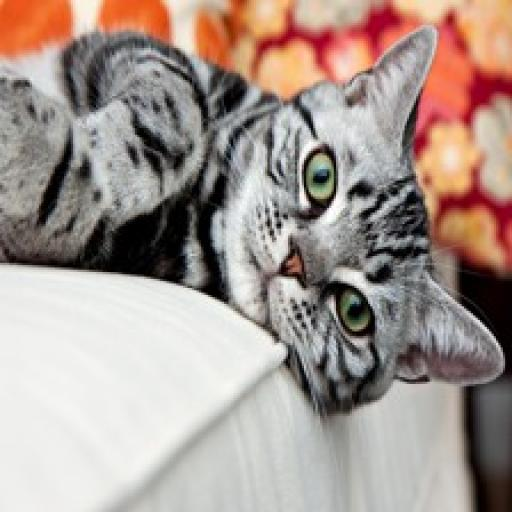cat: (0, 14, 501, 416)
